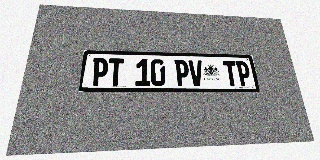0: (151, 59, 165, 86)
1: (135, 59, 150, 86)
P: (91, 58, 109, 86), (235, 61, 252, 86), (174, 60, 190, 86)
T: (107, 58, 124, 86), (222, 61, 239, 86)
V: (188, 60, 204, 86)
